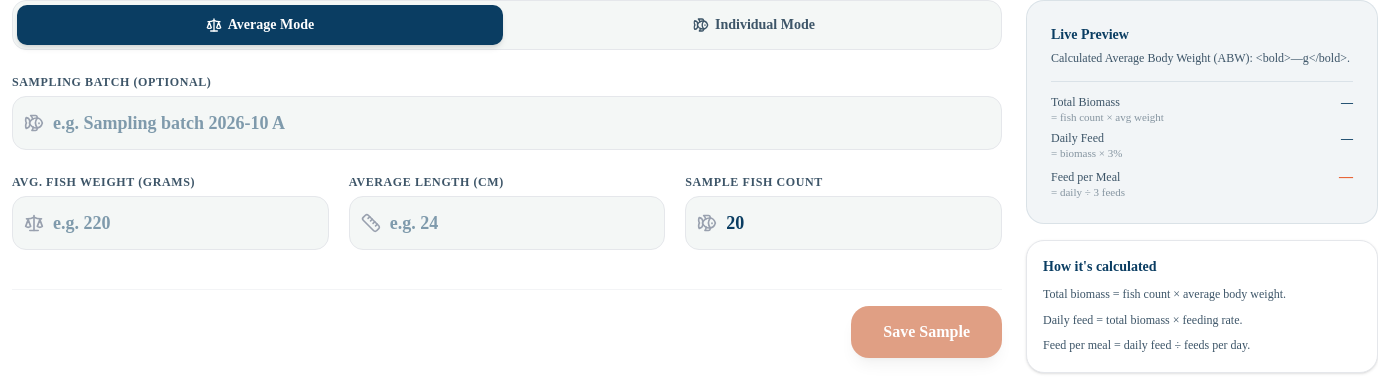
Scenario: biomass result status (#751) › labels a skipped calculation as no schedule update
Type "220" into the number field labelled "Avg. Fish Weight (grams)" at (170, 223), box [12,196,329,250]
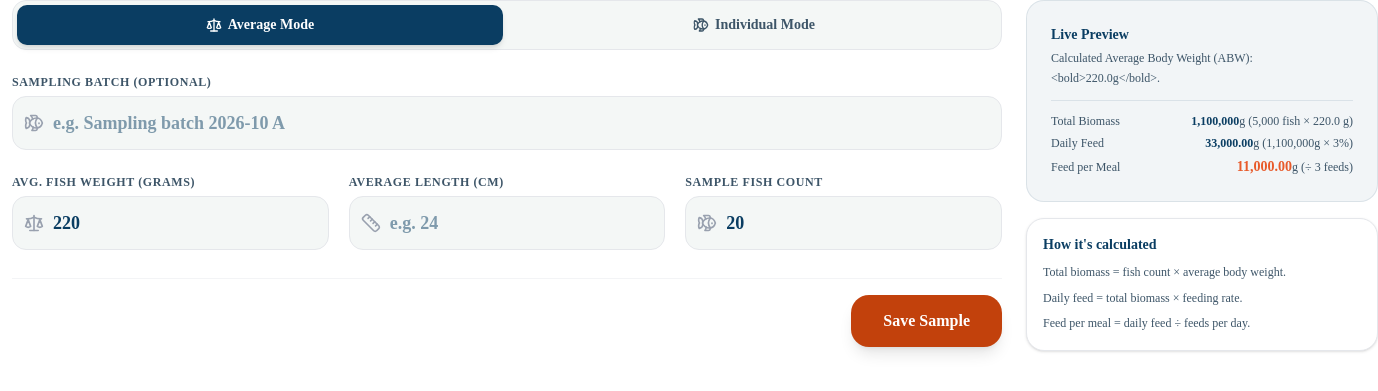
Type "24" into the number field labelled "Average Length (cm)" at (507, 223), box [349,196,665,250]
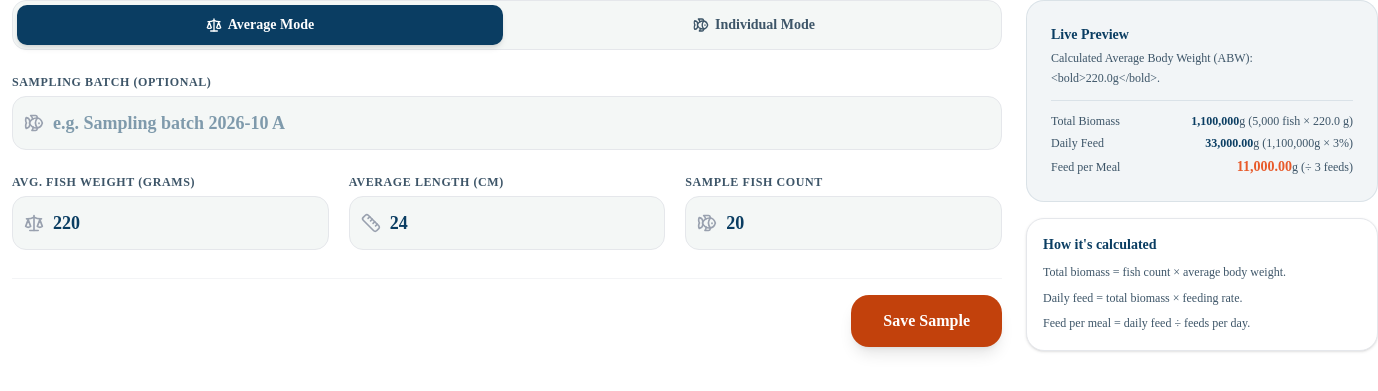
Click the button "Save Sample" at (927, 321), box [851,295,1002,347]
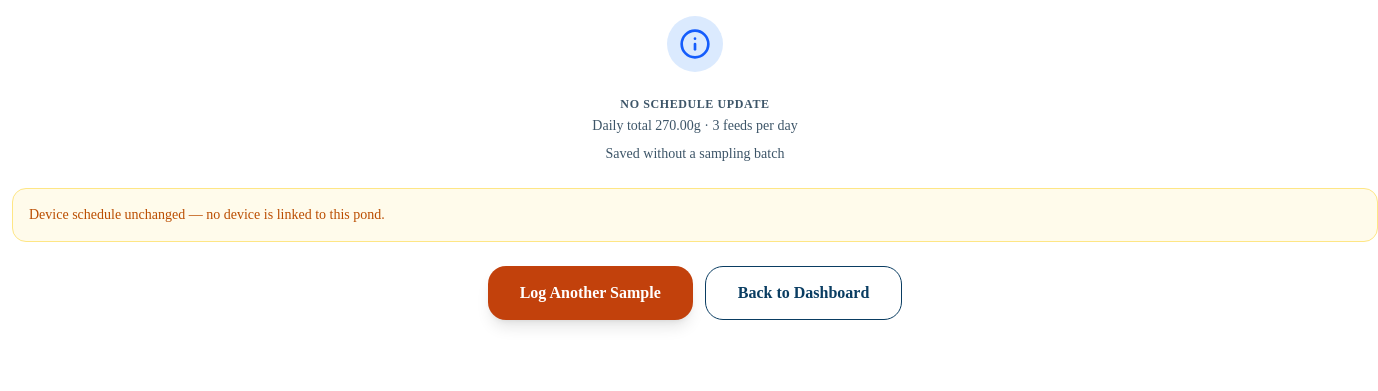
Result: the text "No schedule update" is shown at [620,97,770,111]
